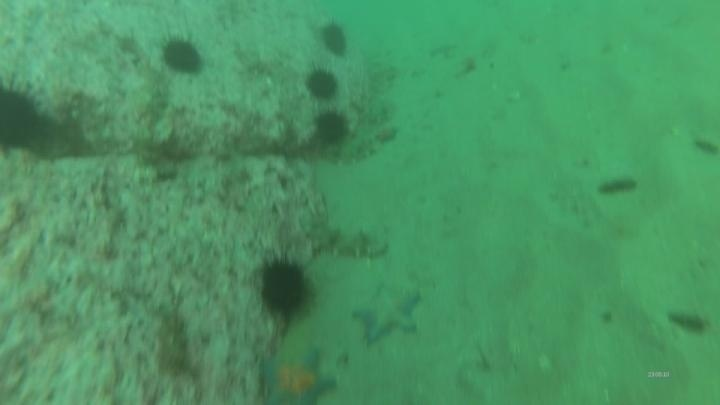echinus: (0, 76, 55, 159), (254, 252, 316, 322), (159, 34, 206, 78), (311, 108, 351, 147), (303, 67, 341, 103), (317, 20, 351, 59)
holothurian: (299, 216, 391, 262), (335, 106, 398, 168)
starfish: (350, 283, 425, 348), (258, 345, 339, 405), (372, 123, 401, 147)
